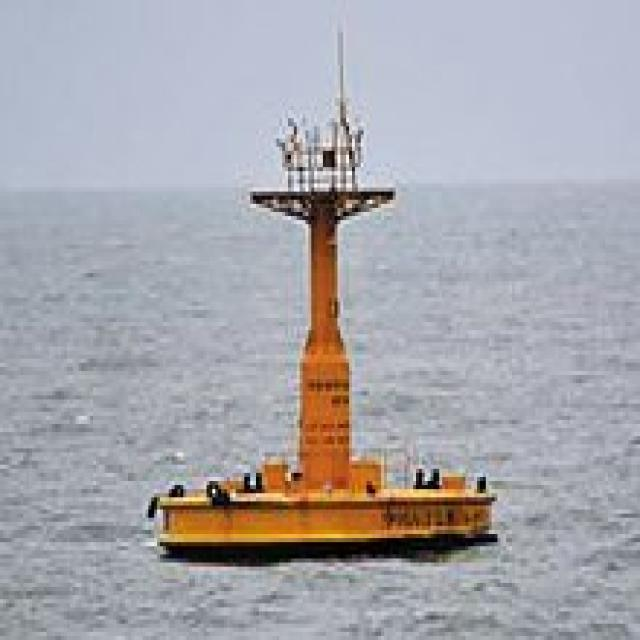buoy: (151, 44, 508, 566)
